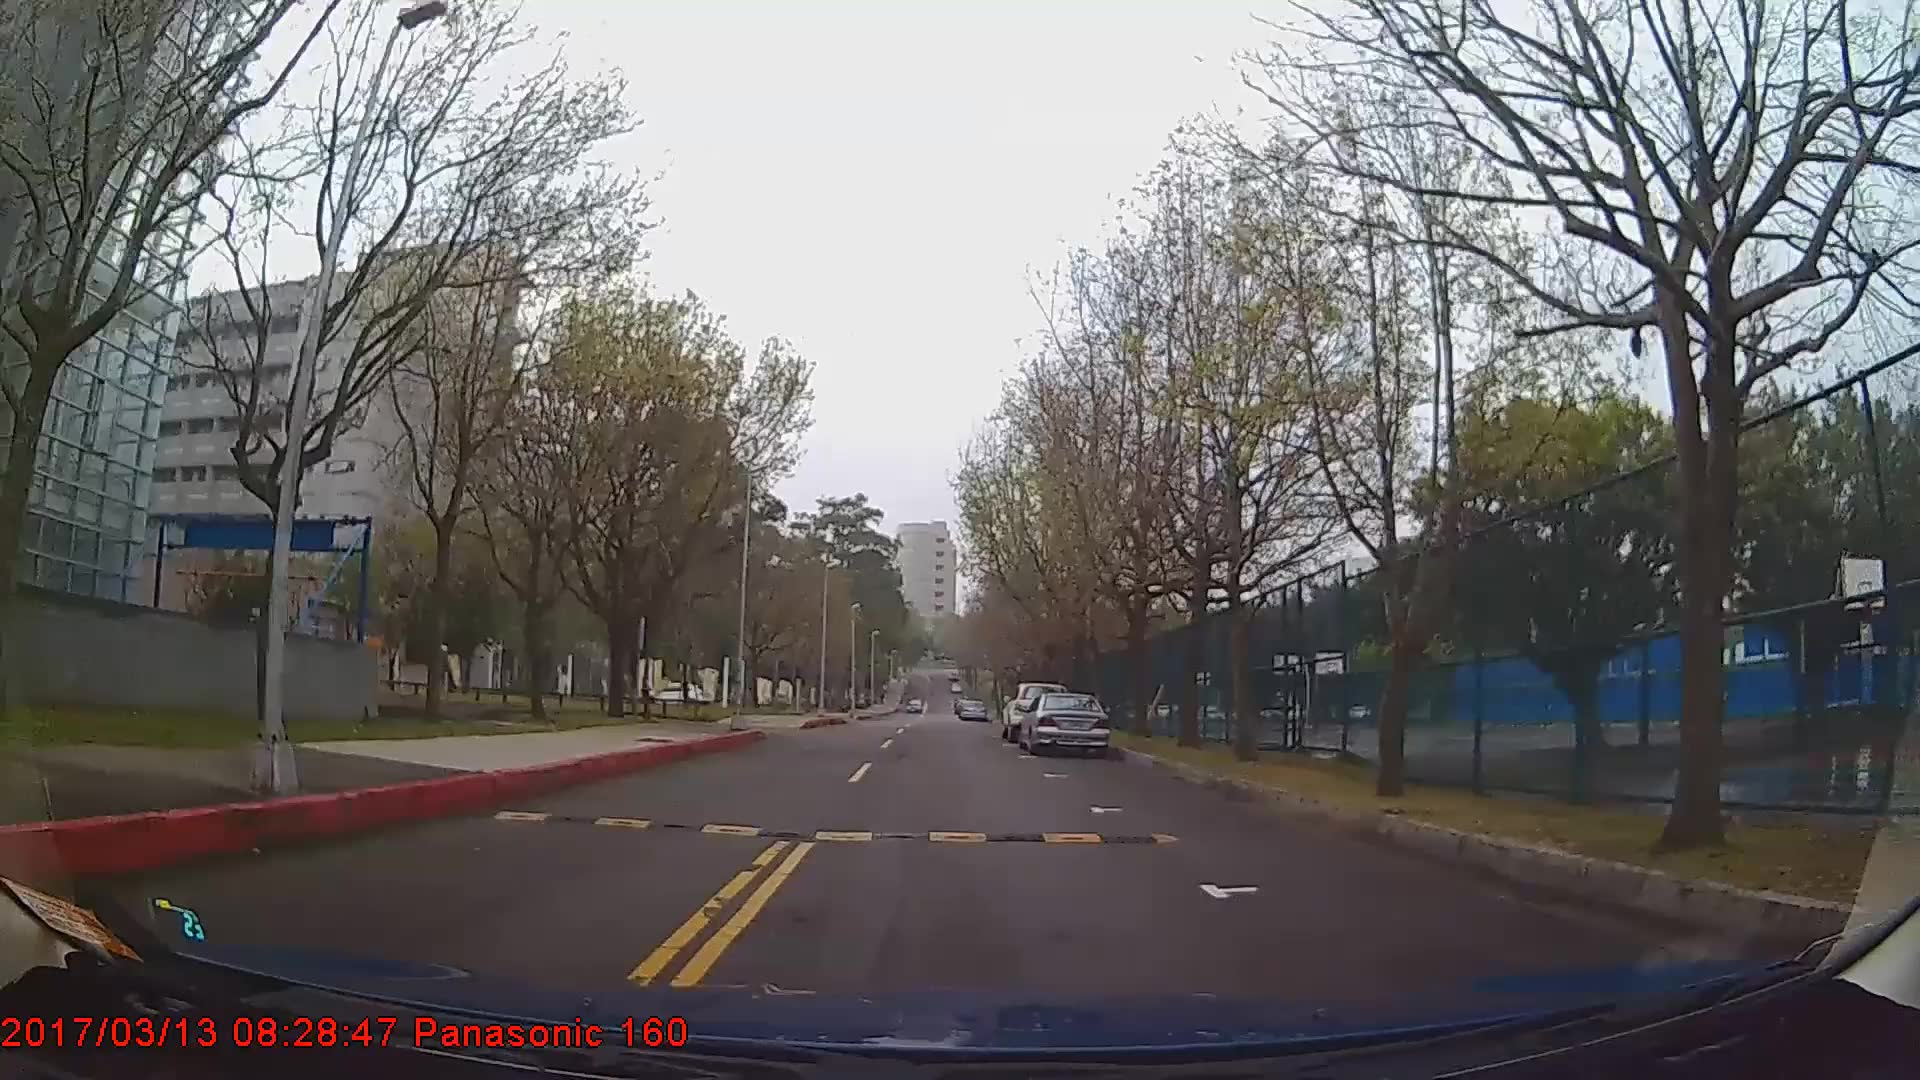vehicle: (1018, 688, 1112, 753), (1004, 678, 1069, 741), (955, 698, 986, 719)
